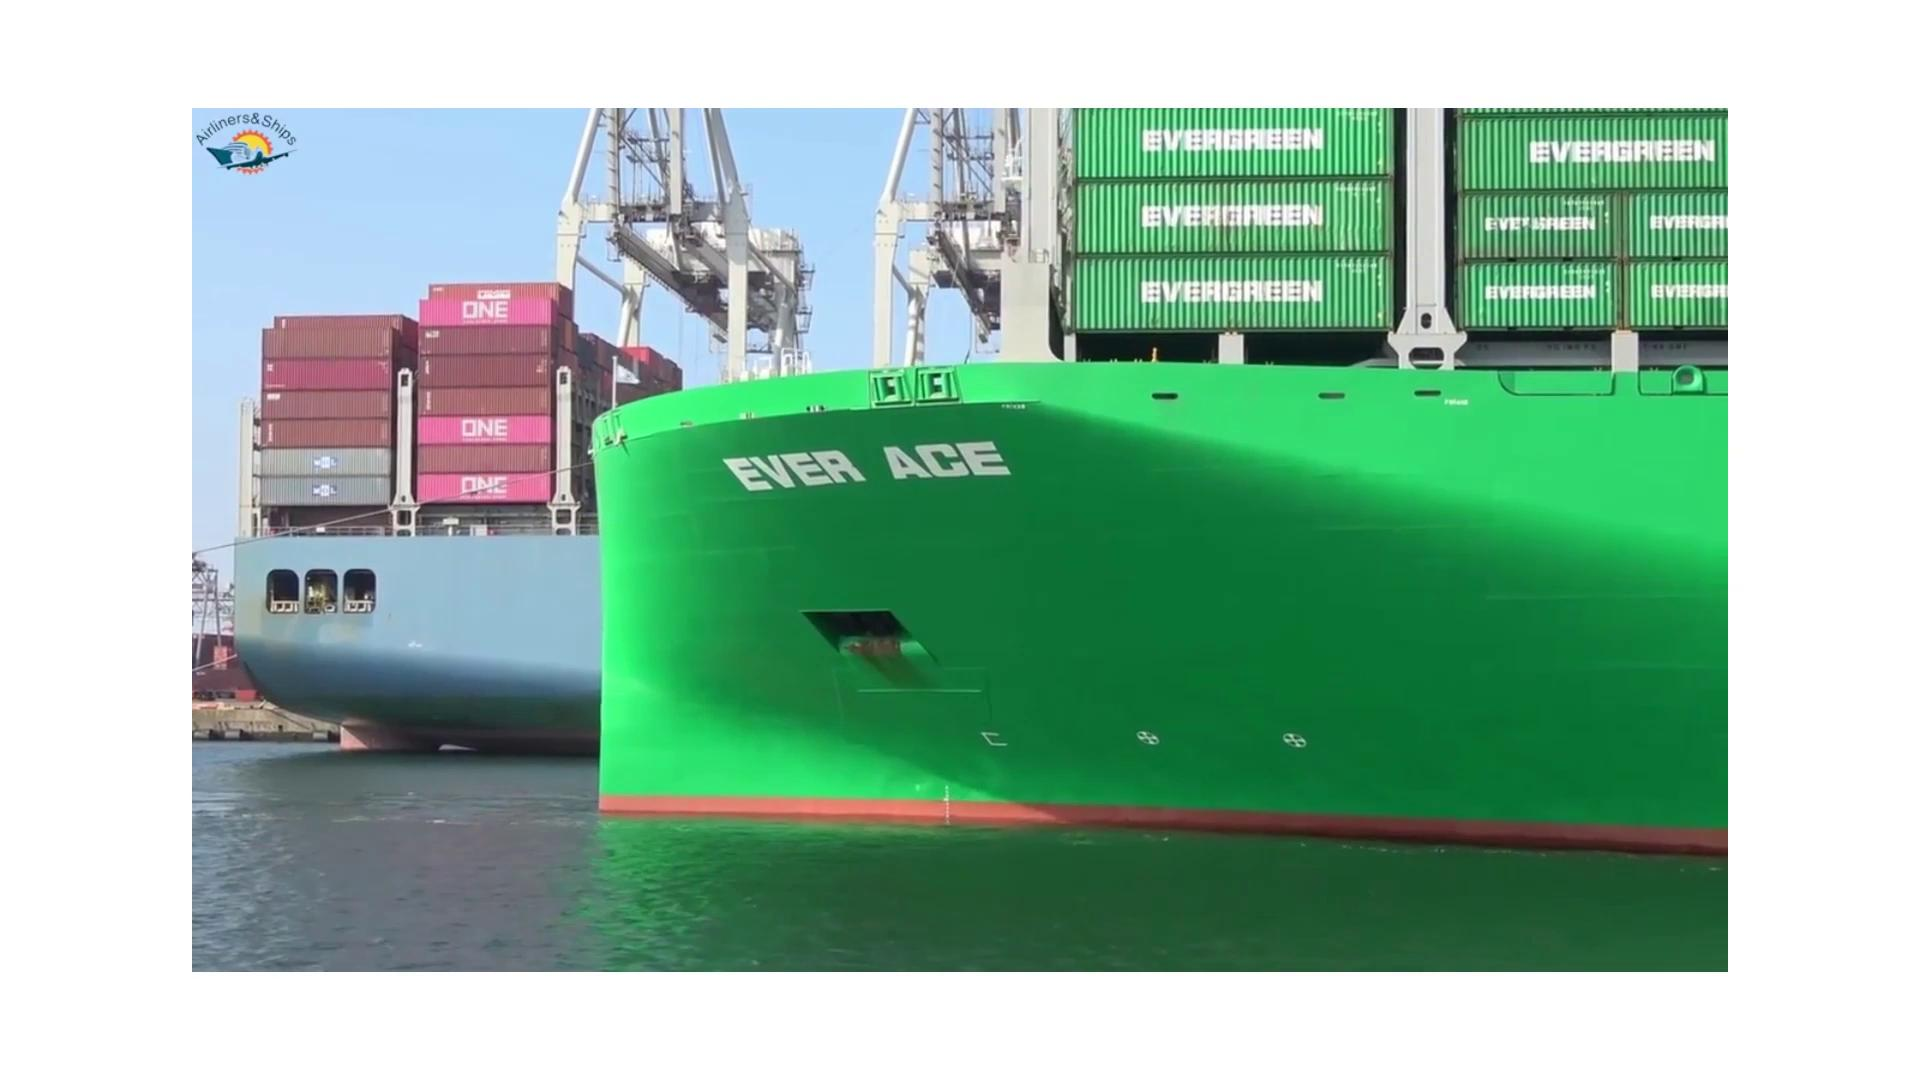OCR: (699, 417, 1036, 524)
